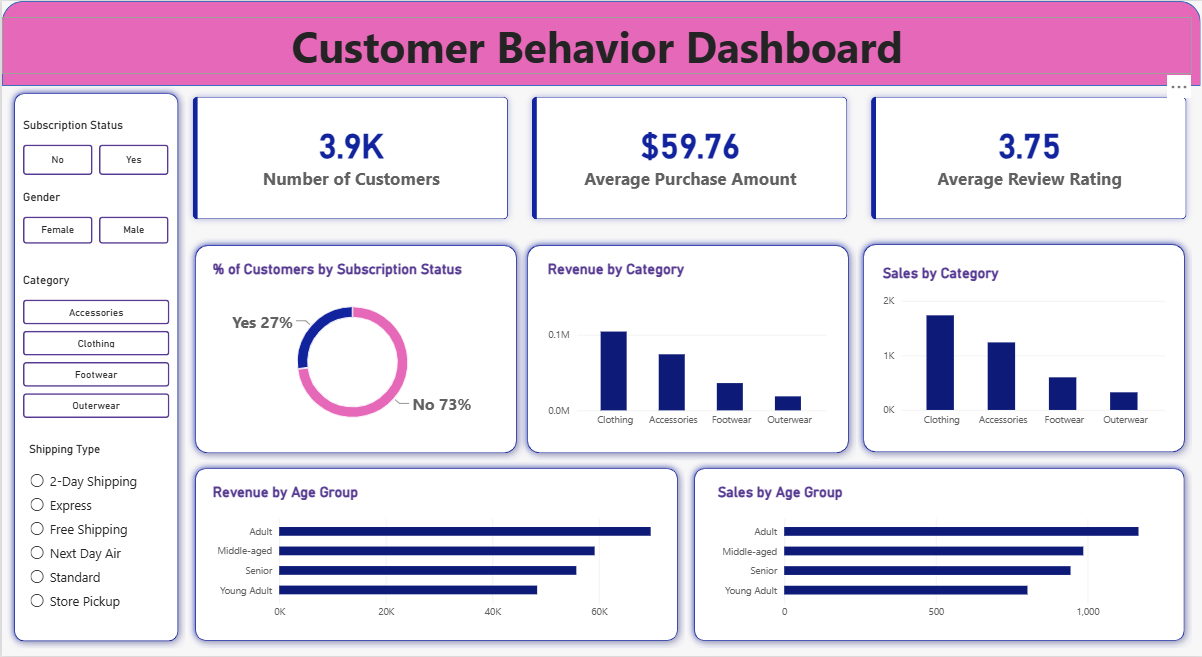

Layout of this report page (visuals, bound fields, positions):
{"tool":"powerbi","page":{"name":"Page 1","canvas":[1500,820],"ordinal":0},"visuals":[{"type":"cardVisual","fields":{"Data":["customer.Number of Customers","customer.Average Purchase Amount","customer.Average Review Rating"]},"box":[227.5,108.8,1266.2,175],"z":0},{"type":"shape","box":[0,0,1498.5,106.2],"z":1000},{"type":"textbox","box":[6.2,0,1913.8,90.8],"z":2000},{"type":"shape","box":[232.5,296.2,420,278],"z":3000},{"type":"donutChart","title":"% of Customers by Subscription Status","fields":{"Category":["customer.Subscription Status"],"Y":["CountNonNull(customer.Customer ID)"]},"box":[247.5,310,381.2,247.5],"z":4000},{"type":"shape","box":[647.5,296.2,420,278],"z":5000},{"type":"shape","box":[1067.5,295,420,278],"z":6000},{"type":"textbox","box":[0,20,1487.7,70.8],"z":7000},{"type":"clusteredColumnChart","title":"Revenue by Category","fields":{"Category":["customer.Category"],"Y":["Sum(customer.Purchase Amount (USD))"]},"box":[666.2,310,381.2,242.5],"z":8000},{"type":"clusteredColumnChart","title":"Sales by Category","fields":{"Category":["customer.Category"],"Y":["CountNonNull(customer.Customer ID)"]},"box":[1085,315,385,237],"z":9000},{"type":"shape","box":[6.2,106.2,223.1,703.1],"z":10000},{"type":"advancedSlicerVisual","fields":{"Values":["customer.Subscription Status"]},"box":[26.2,147.7,183.1,70.8],"z":11000},{"type":"advancedSlicerVisual","fields":{"Values":["customer.Gender"]},"box":[26.2,236.9,183.1,66.2],"z":12000},{"type":"advancedSlicerVisual","fields":{"Values":["customer.Category"]},"box":[26.2,341.2,183.1,180],"z":13000},{"type":"listSlicer","fields":{"Values":["customer.Shipping Type"]},"box":[33.8,552.5,168,220],"z":14000},{"type":"shape","box":[232.5,575,621.2,233.8],"z":15000},{"type":"clusteredBarChart","title":"Revenue by Age Group","fields":{"Y":["Sum(customer.Purchase Amount (USD))"],"Category":["customer.age_group"]},"box":[247.5,588.8,591.2,203.8],"z":16000},{"type":"shape","box":[856.2,575,631,234],"z":17000},{"type":"clusteredBarChart","title":"Sales by Age Group","fields":{"Category":["customer.age_group"],"Y":["CountNonNull(customer.Customer ID)"]},"box":[878.8,588.8,585,204],"z":18000}]}

Visuals, with their boxes in screenshot pixels (x1, y1, x2, y2), scaled from the page's 1500x820 canvas onto the 1202x657 screenshot:
cardVisual - customer.Number of Customers x customer.Average Purchase Amount: region(182, 87, 1197, 227)
shape: region(0, 0, 1201, 85)
textbox: region(5, 0, 1201, 73)
shape: region(186, 237, 523, 460)
"% of Customers by Subscription Status" donutChart: region(198, 248, 504, 447)
shape: region(519, 237, 855, 460)
shape: region(855, 236, 1192, 459)
textbox: region(0, 16, 1192, 73)
"Revenue by Category" clusteredColumnChart: region(534, 248, 839, 443)
"Sales by Category" clusteredColumnChart: region(869, 252, 1178, 442)
shape: region(5, 85, 184, 648)
advancedSlicerVisual - customer.Subscription Status: region(21, 118, 168, 175)
advancedSlicerVisual - customer.Gender: region(21, 190, 168, 243)
advancedSlicerVisual - customer.Category: region(21, 273, 168, 418)
listSlicer - customer.Shipping Type: region(27, 443, 162, 619)
shape: region(186, 461, 684, 648)
"Revenue by Age Group" clusteredBarChart: region(198, 472, 672, 635)
shape: region(686, 461, 1192, 648)
"Sales by Age Group" clusteredBarChart: region(704, 472, 1173, 635)
